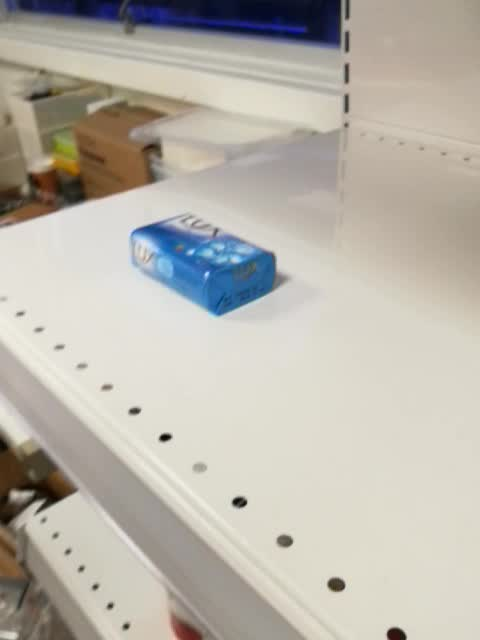soap: (129, 211, 278, 318)
